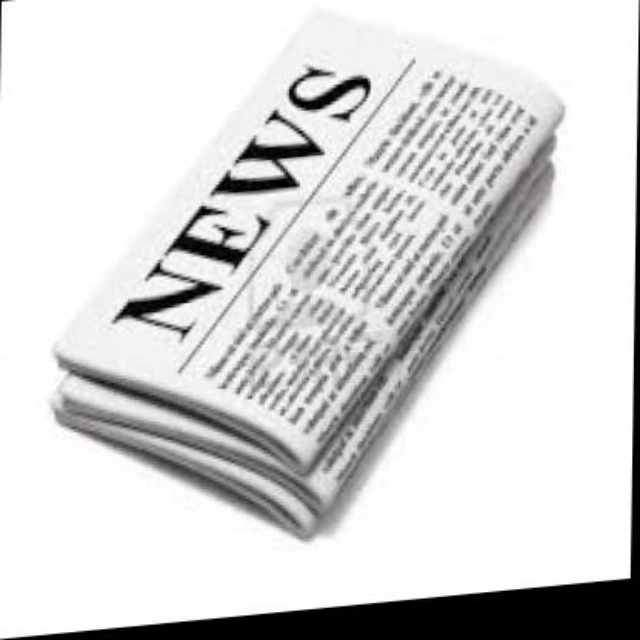trash: (54, 12, 562, 535)
